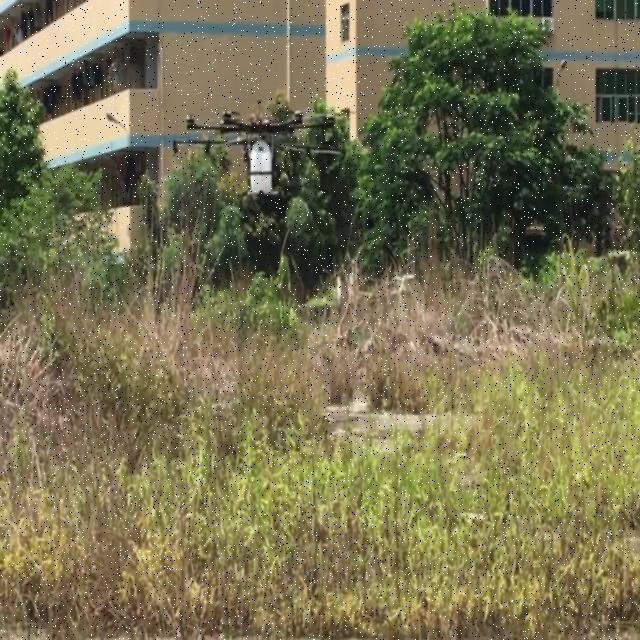UAV: (172, 109, 342, 198)
